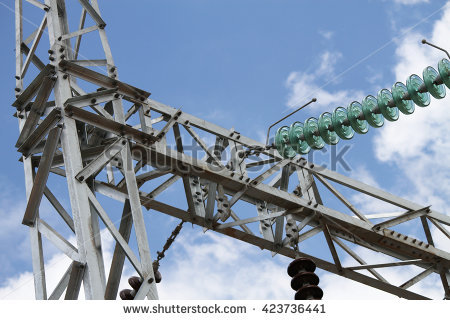isolator: (273, 57, 450, 158)
